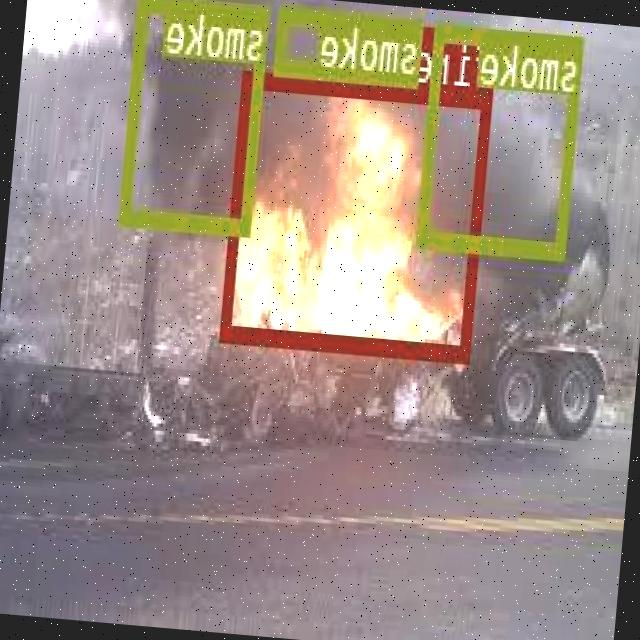fire: (222, 67, 495, 361)
smoke: (419, 22, 585, 255), (121, 0, 272, 233), (276, 3, 425, 82)
